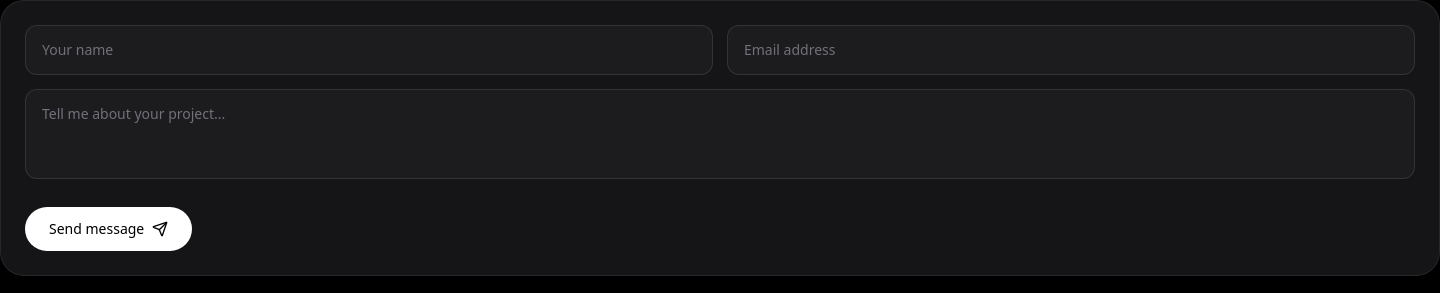
Test: ContactForm › announces sending, keeps the button focusable and ignores a second submit
The image size is (1440, 293).
Type "Ada" into the field labelled "Your name".
click(369, 50); type("Ada")  # box [25,25,713,75]
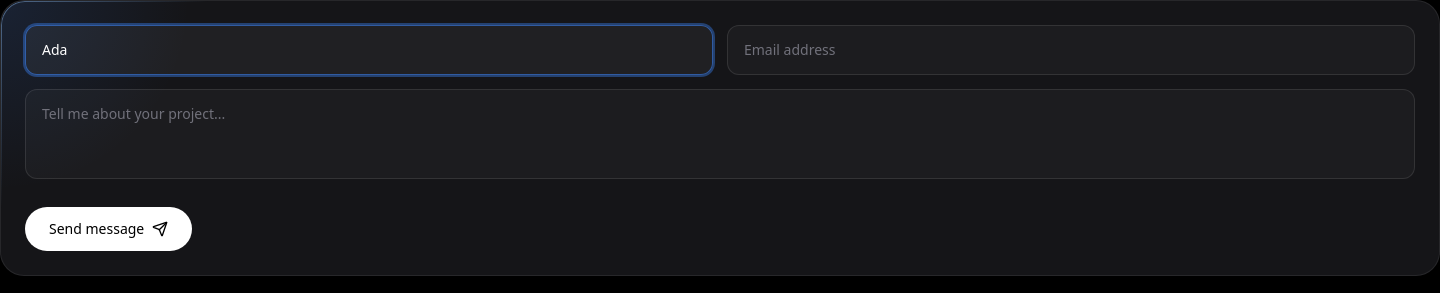
Type "ada@example.com" into the field labelled "Email address".
click(1071, 50); type("ada@example.com")  # box [727,25,1415,75]
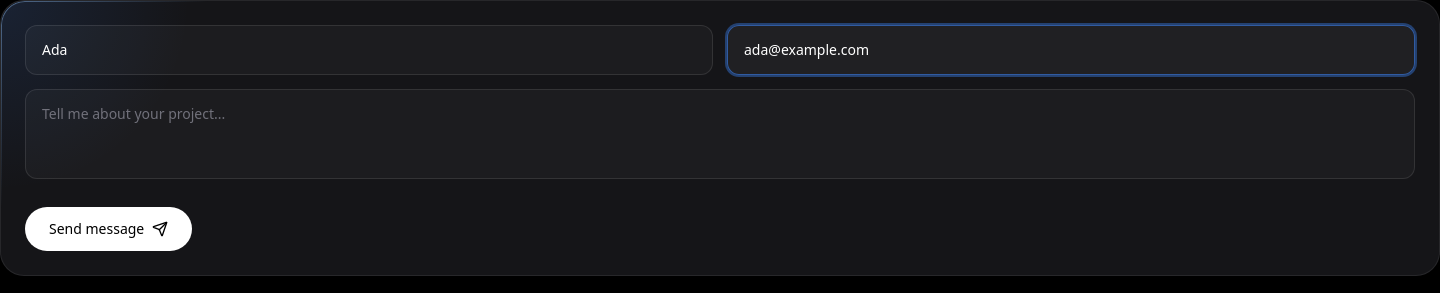
Type "Hello" into the text box labelled "Tell me about your project...".
click(720, 134); type("Hello")  # box [25,89,1415,179]
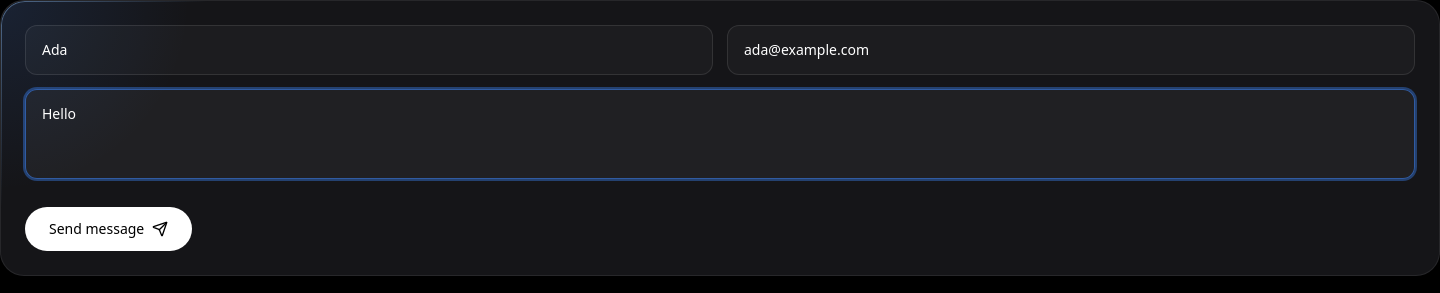
Click the button "Send message".
click(109, 229)  # box [25,207,192,251]
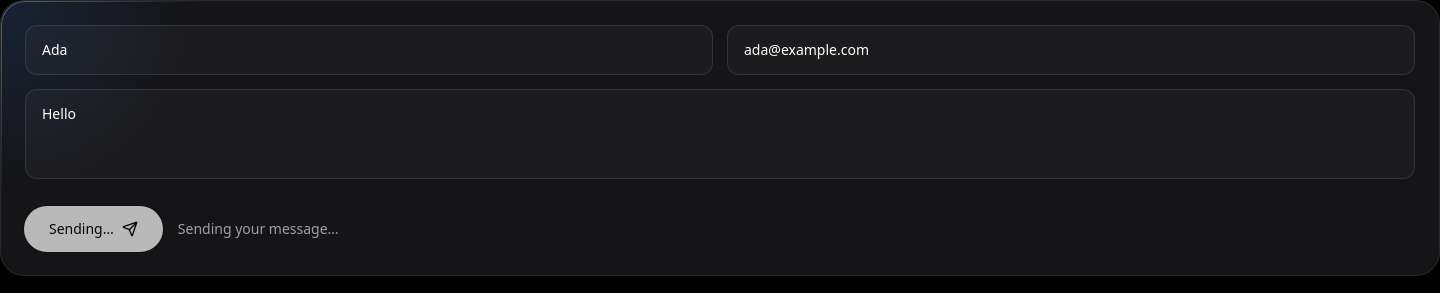
Expected: the message reads "Sending your message…", [178,219,339,238]
Expected: the button "Sending…" is enabled
Click the button "Sending…".
click(93, 229)  # box [25,207,162,251]
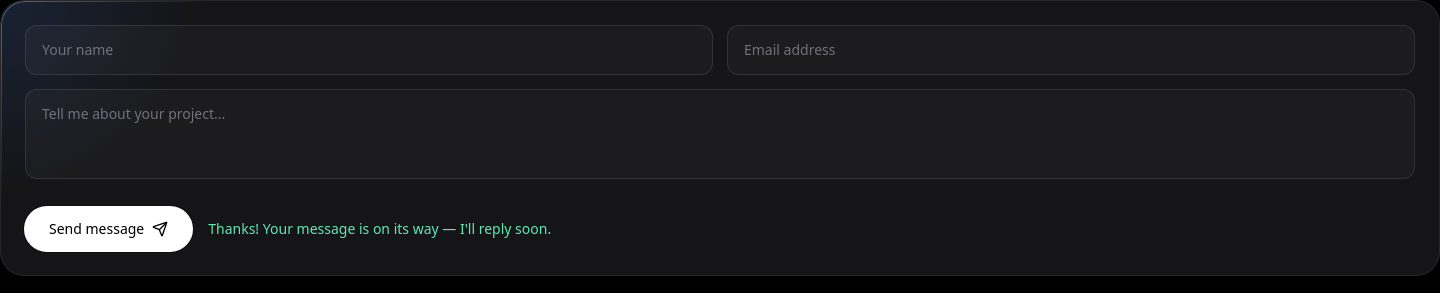
Expected: the text "Thanks! Your message is on its way — I'll reply soon." is shown, [208,219,551,239]
